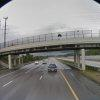Bridge: (3, 27, 94, 63)
